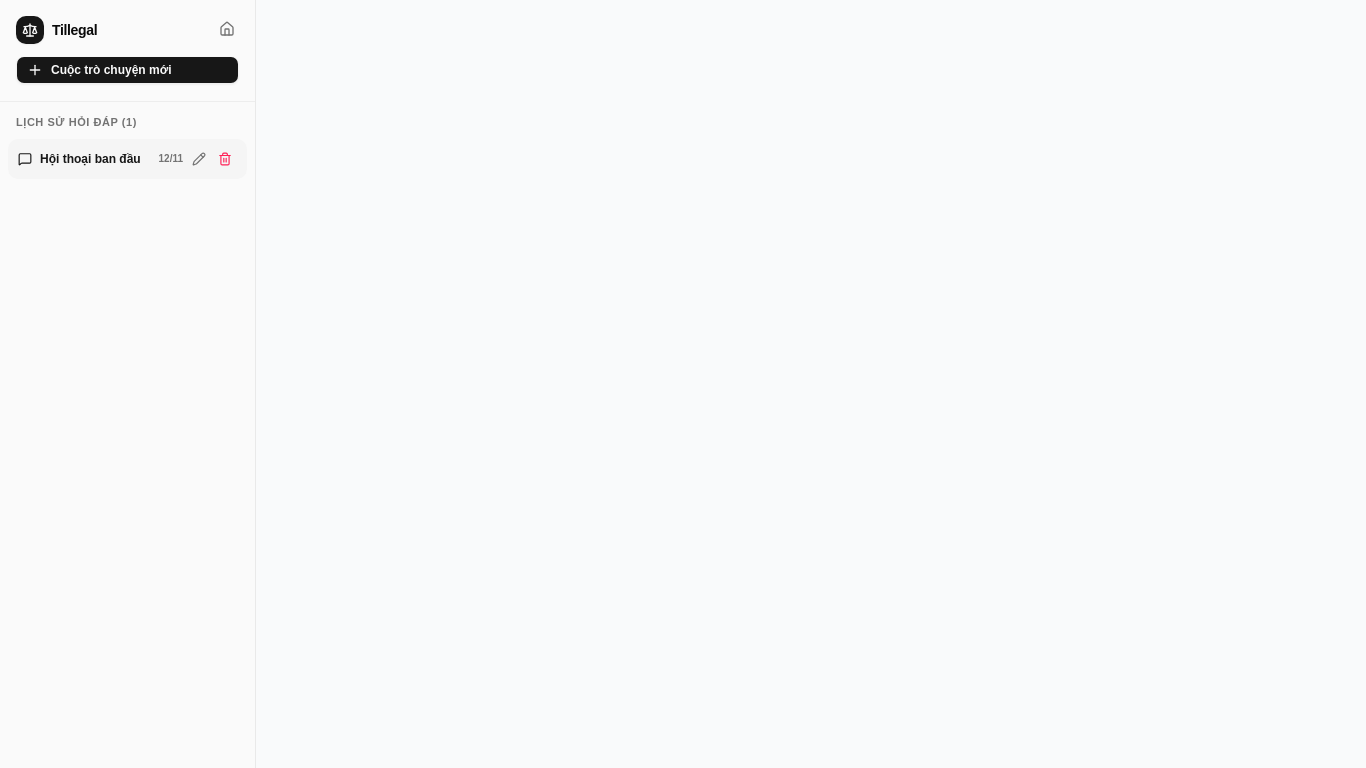
Test: Chat Feature › ChatSidebar Rename & Delete Dialog UI › supports inline title renaming and confirms deletion via Dialog
The image size is (1366, 768).
Later steps or results of the test are not shown.
Click rename button
Click the button named "Sửa tiêu đề" at (199, 158), box x1=187 y1=146 x2=211 y2=170
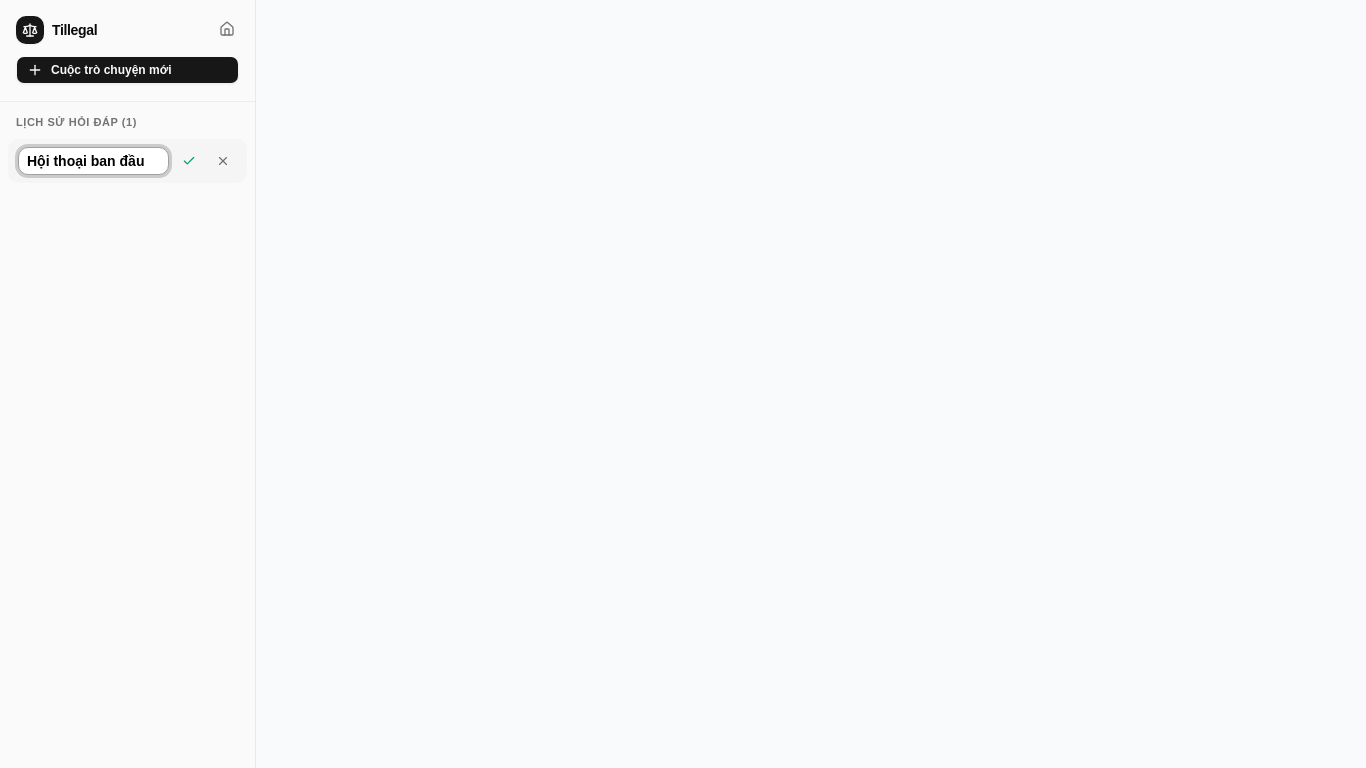
Expected: the field with placeholder "Tiêu đề cuộc trò chuyện..." holds "Hội thoại ban đầu"
Replace the text in the field with placeholder "Tiêu đề cuộc trò chuyện..." with "Hội thoại đổi tên" at (94, 160), box x1=18 y1=146 x2=169 y2=174
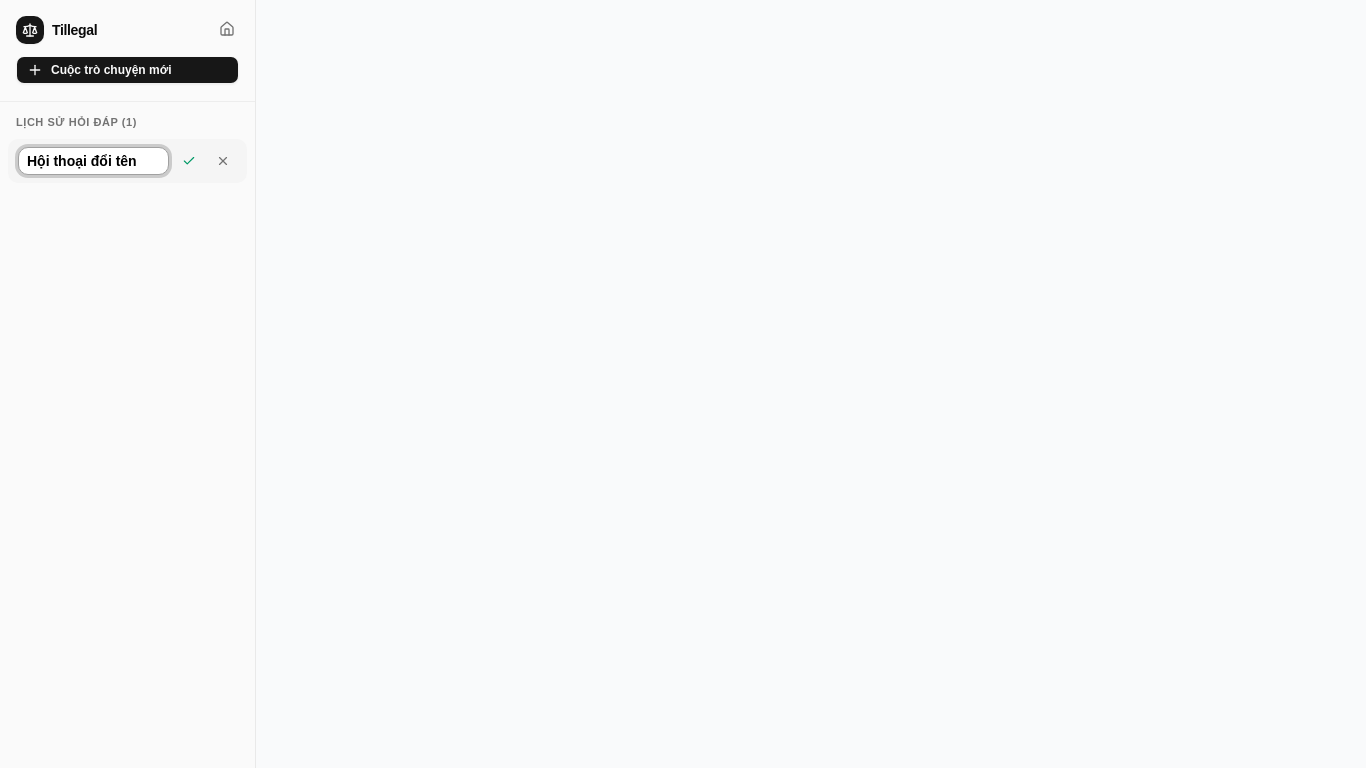
Save via Check button
Click the button named "Lưu tiêu đề" at (189, 160), box x1=175 y1=146 x2=203 y2=174
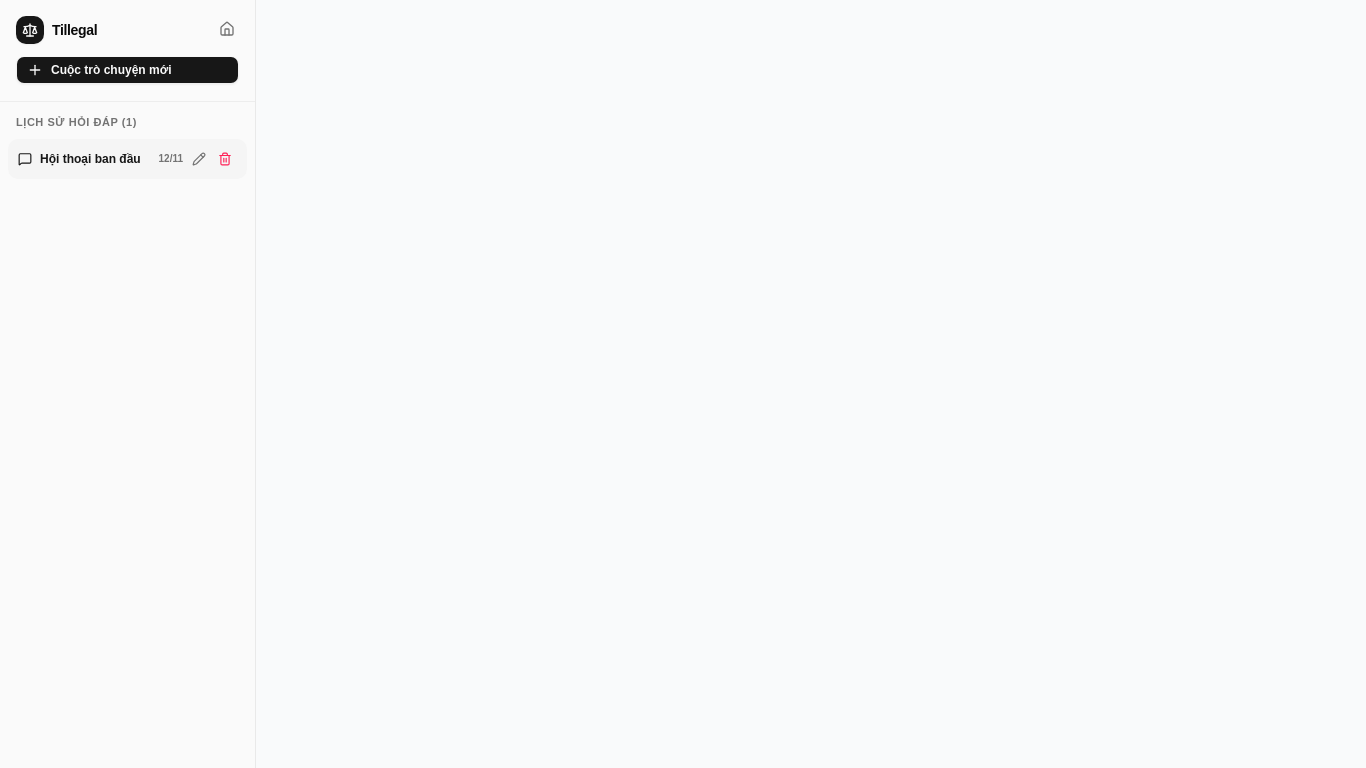
Click the button named "Xóa hội thoại" at (225, 158), box x1=213 y1=146 x2=237 y2=170
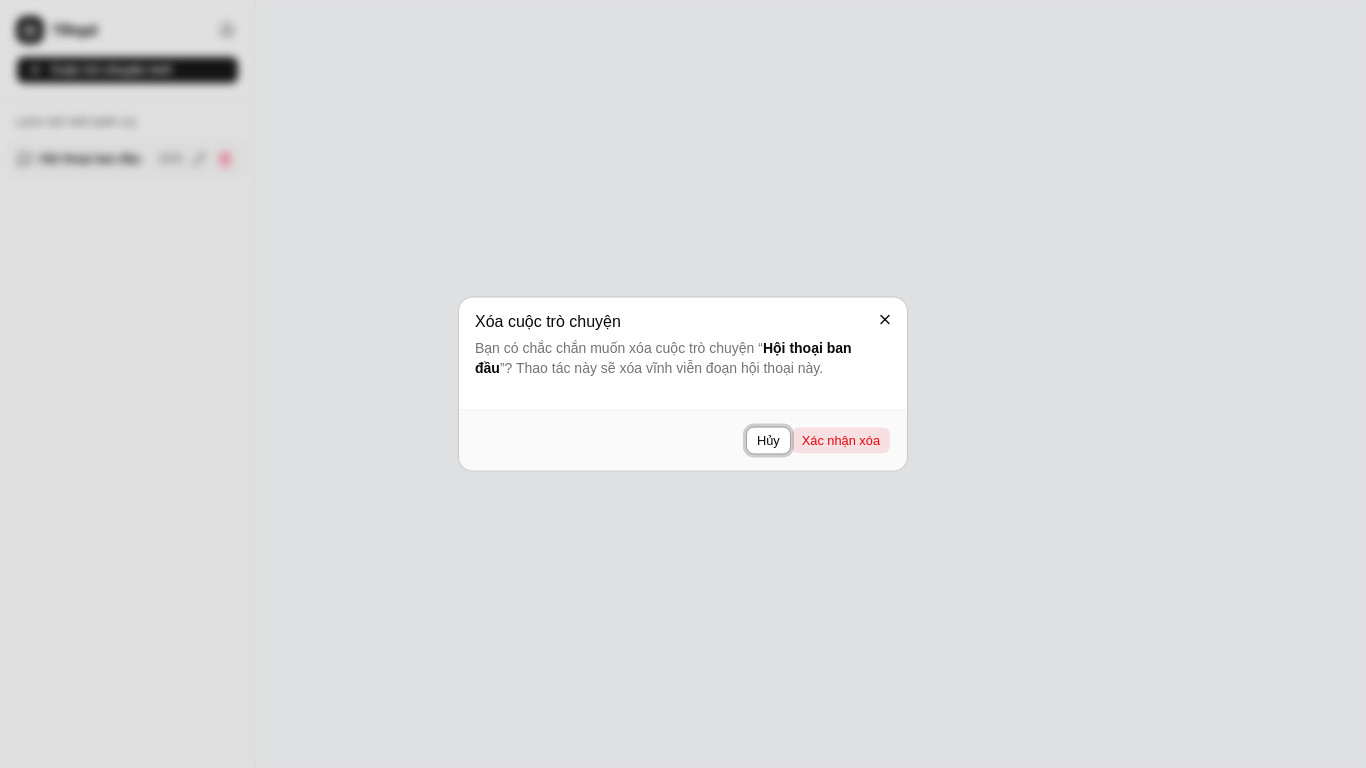
Expected: the text "Bạn có chắc chắn muốn xóa cuộc trò chuyện" is shown, x1=475 y1=340 x2=763 y2=356
